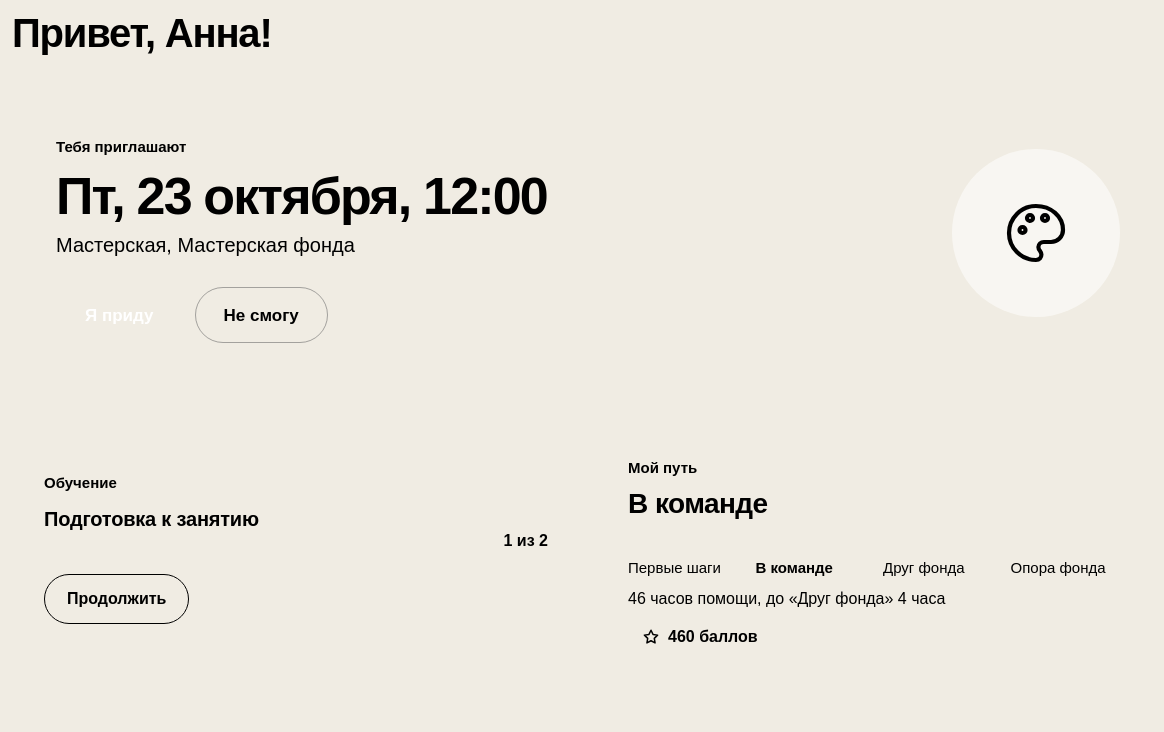
volunteer home › answers the nearest invitation in the hero and does not read the memo before confirmation
This screenshot has width=1164, height=732.
Expected: the text "Тебя приглашают" is shown, [56,138,186,155]
What coordinates should you click on to do the following:
click the button "Я приду"
I would click on:
 (119, 315)
Its box is [56,287,182,343].
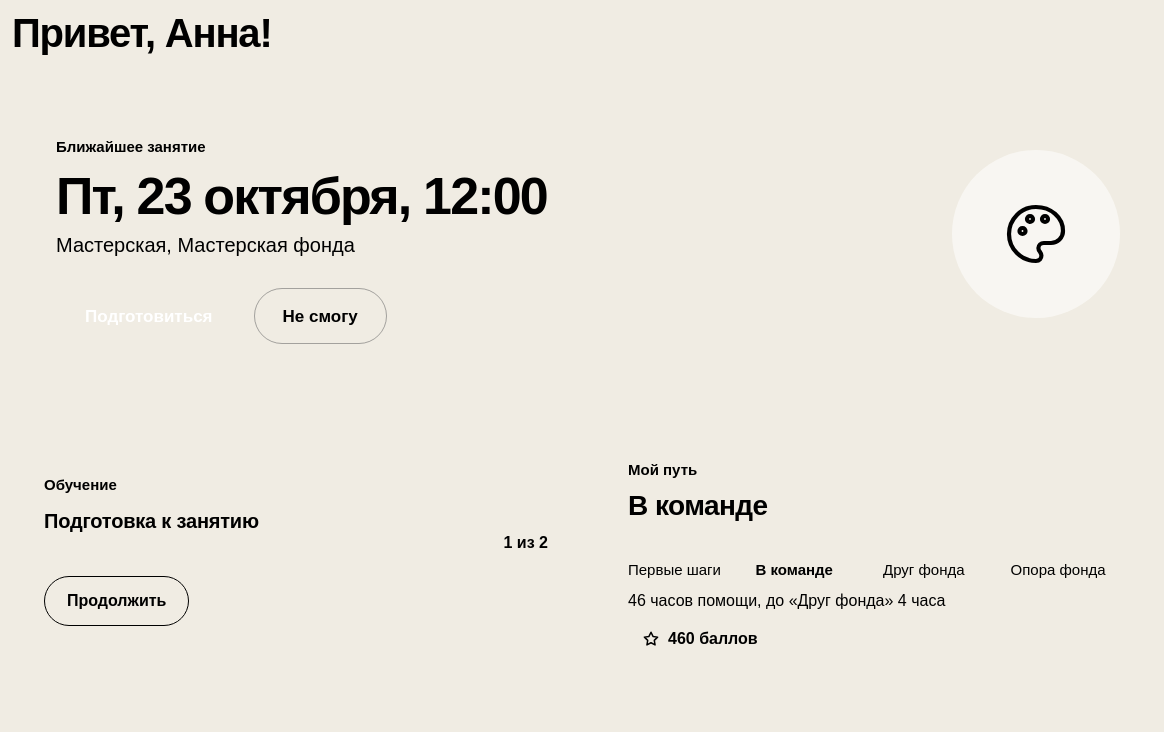
Expected: the link "Подготовиться" is shown, [85,307,212,326]
